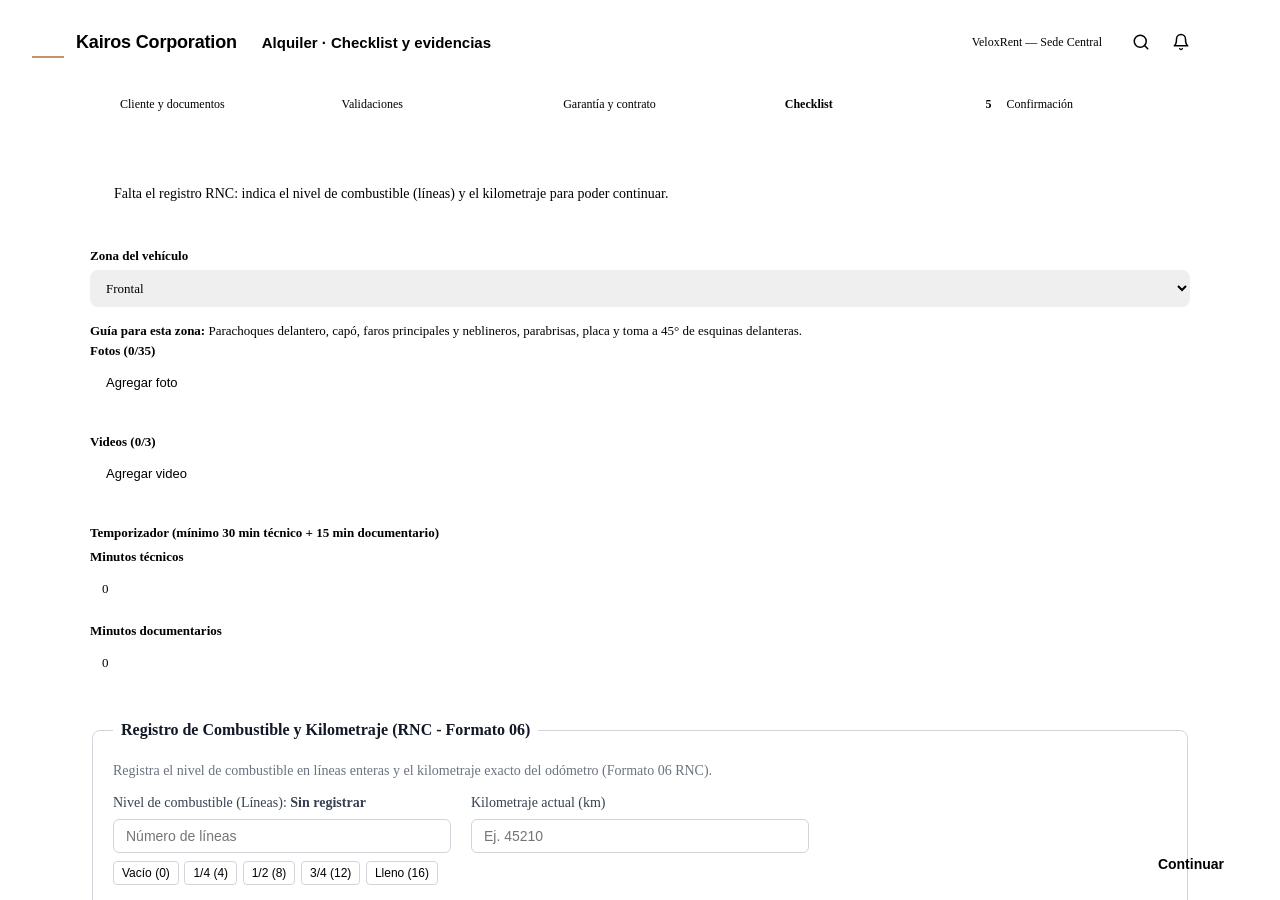
Test: Stage4ChecklistScreen (ENTREGA-04 / ALQ-09) › D3: muestra la guia de toma fotografica segun la zona seleccionada
The width and height of the screenshot is (1280, 900).
Expected: the element with test id "zone-photo-guide" is shown, [90, 323, 802, 338]
Expected: the element with test id "zone-photo-guide" shows "Parachoques delantero, capó", [208, 323, 802, 338]
Select "Lateral izquierdo" in the dropdown labelled "Zona del vehículo" at (640, 288), box [90, 270, 1190, 307]
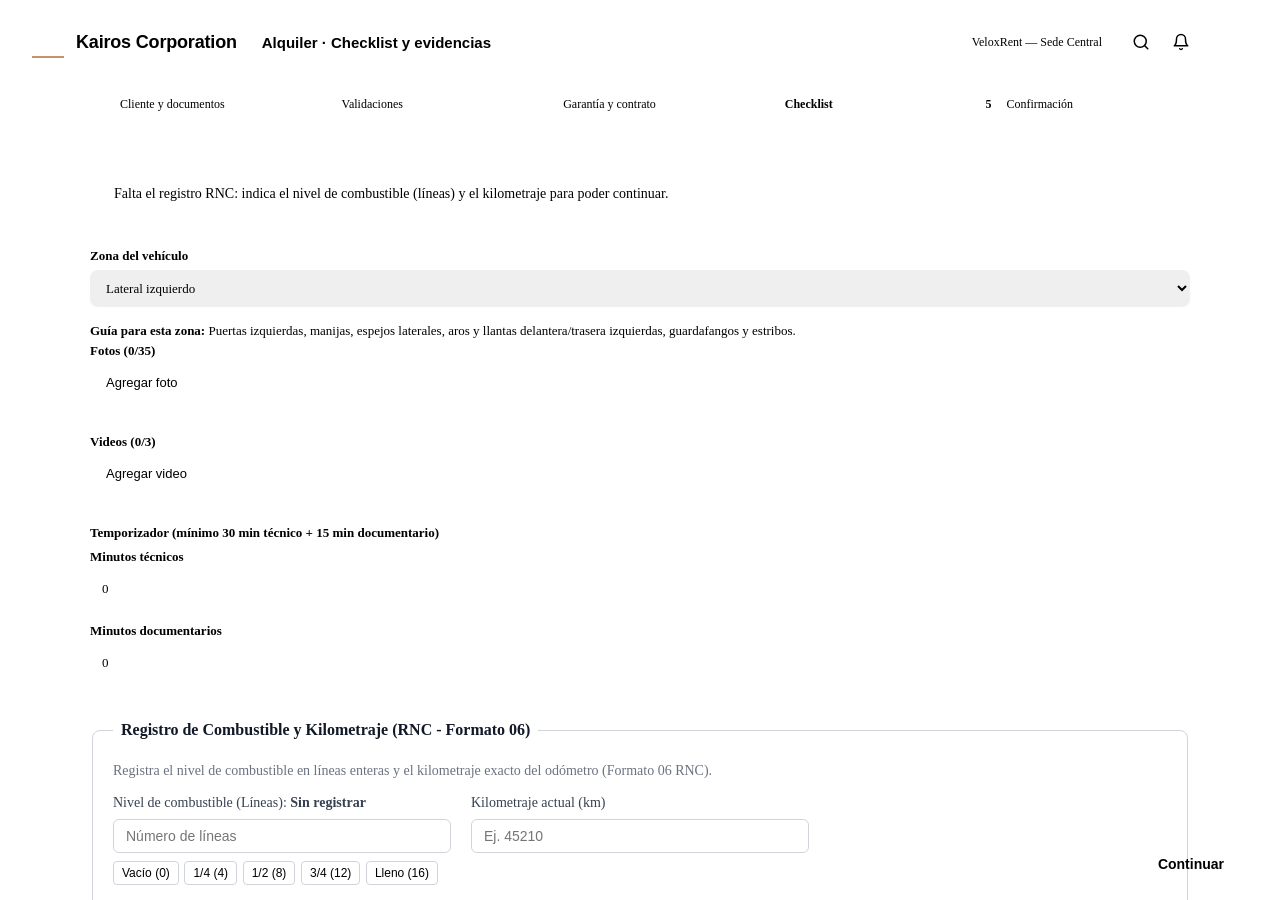
Result: the element with test id "zone-photo-guide" shows "Puertas izquierdas, manijas" at [208, 323, 796, 338]
Select "Interior" in the dropdown labelled "Zona del vehículo" at (640, 288), box [90, 270, 1190, 307]
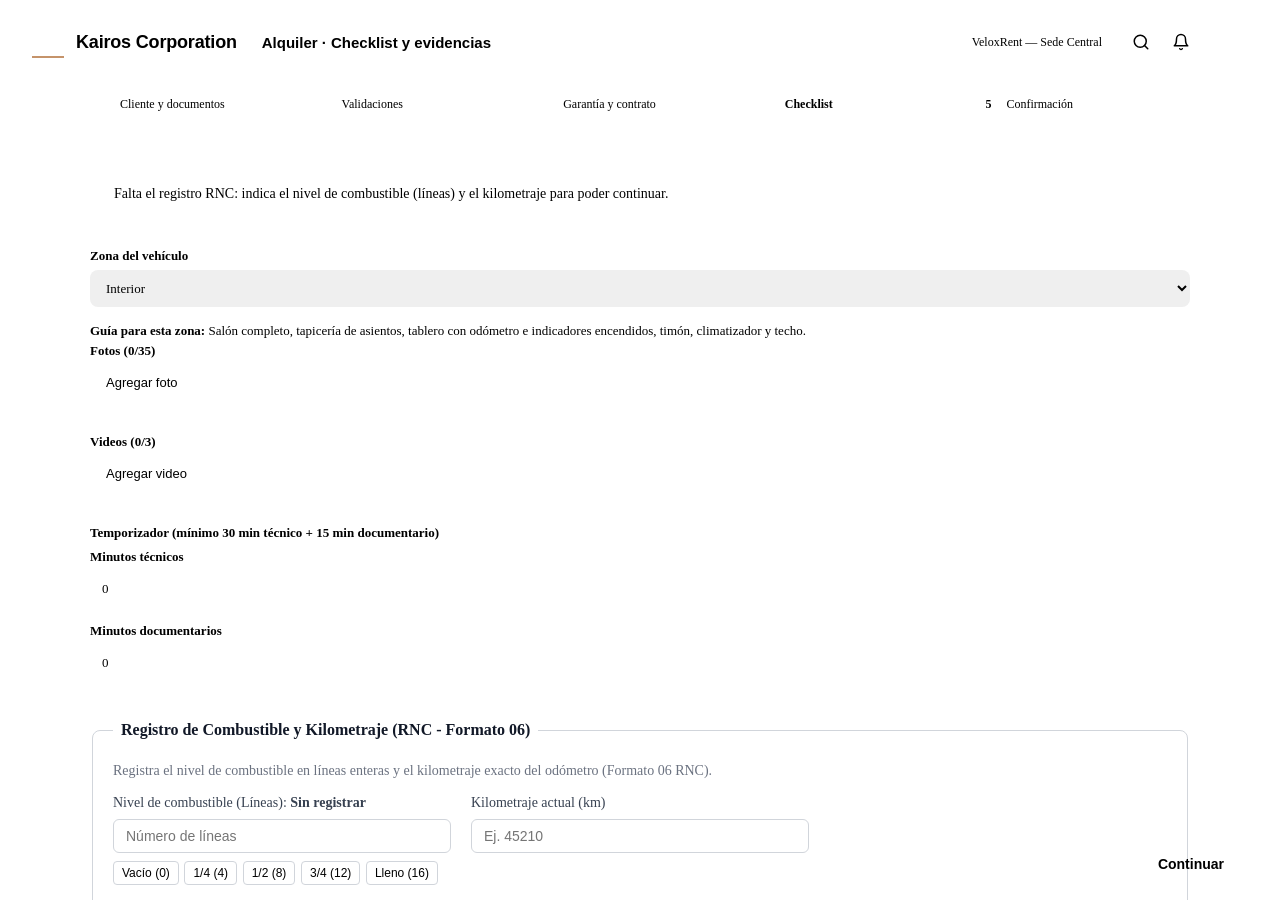
Result: the element with test id "zone-photo-guide" shows "Salón completo, tapicería" at [208, 323, 806, 338]
